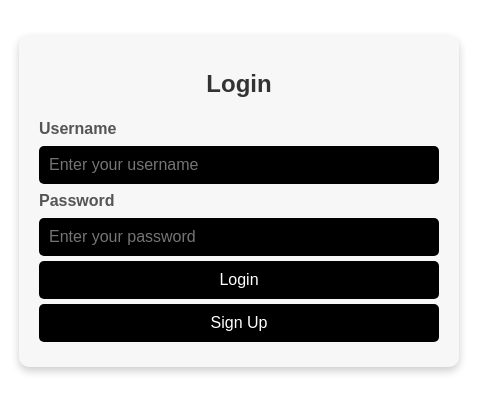
Test: Login Component › shows error message on failed login
In the field labelled "Username": (239, 165) [39, 146, 439, 184], type "testuser"
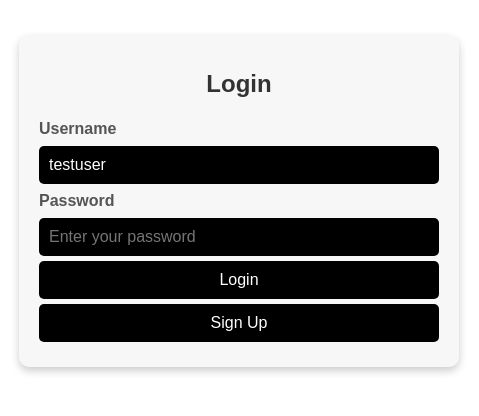
In the password field labelled "Password": (239, 237) [39, 218, 439, 256], type "password"
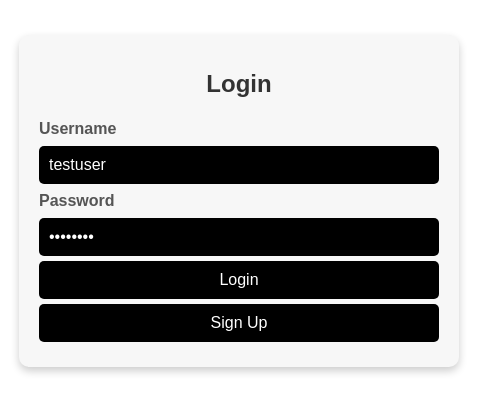
Click the button "Login": (239, 280) [39, 261, 439, 299]
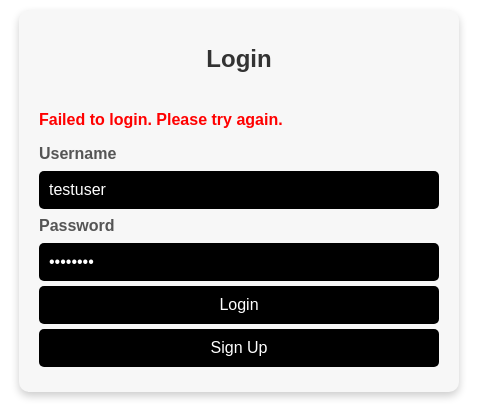
Check: the text "Failed to login. Please try again." is shown, box [39, 111, 283, 128]
